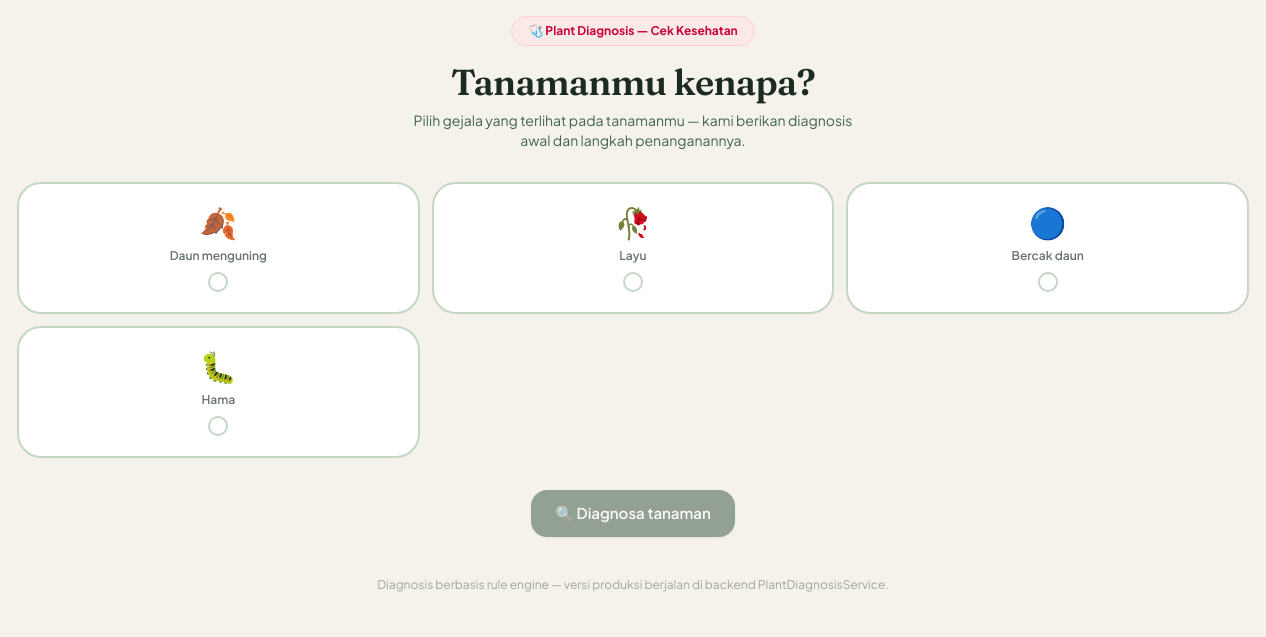
it: PlantDiagnosis Page › shows selected count when symptoms selected
The image size is (1266, 637).
Click the text "Daun menguning".
click(218, 256)  # box [170,248,267,264]
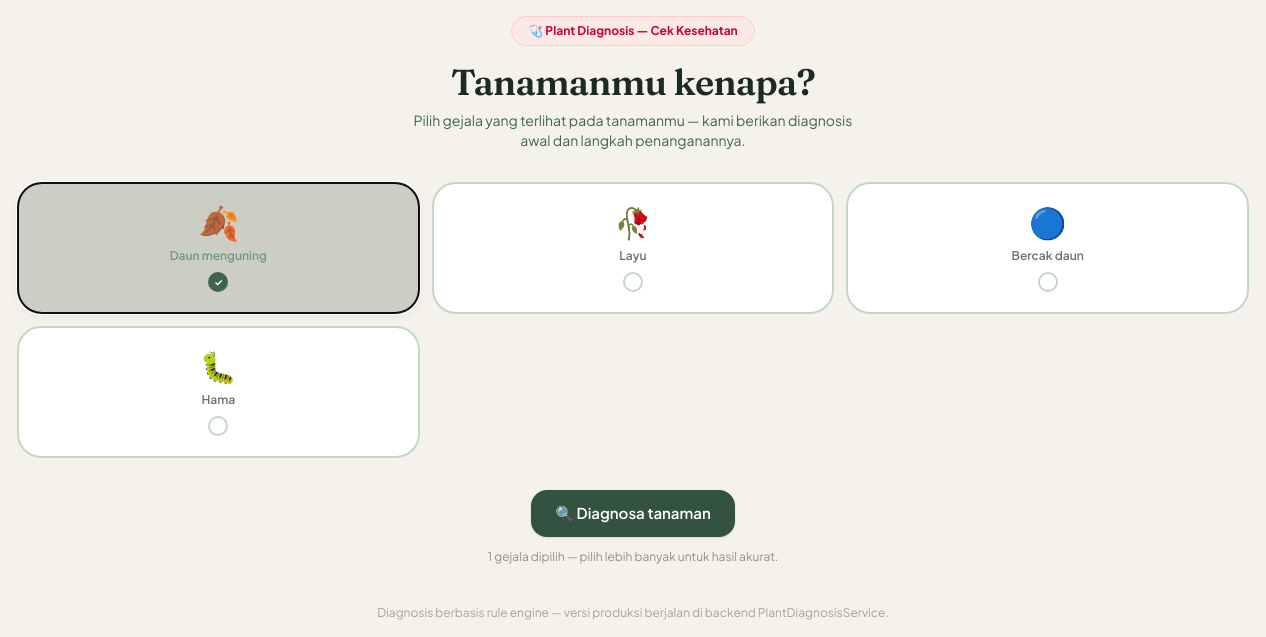
Result: the text "1 gejala dipilih — pilih lebih banyak untuk hasil akurat." is shown at [488,548,778,564]
